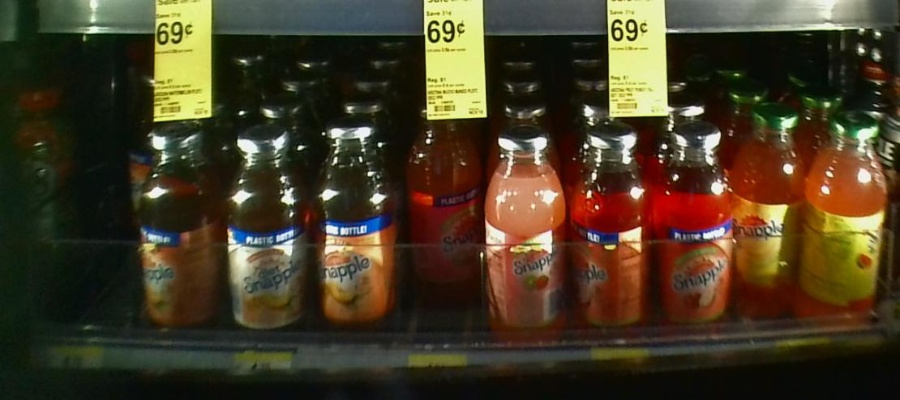bottle: (489, 128, 570, 341), (809, 116, 889, 328), (574, 122, 649, 346), (654, 121, 734, 331), (225, 124, 306, 330), (137, 122, 220, 323), (312, 130, 394, 328), (408, 100, 486, 290), (738, 106, 805, 315)
